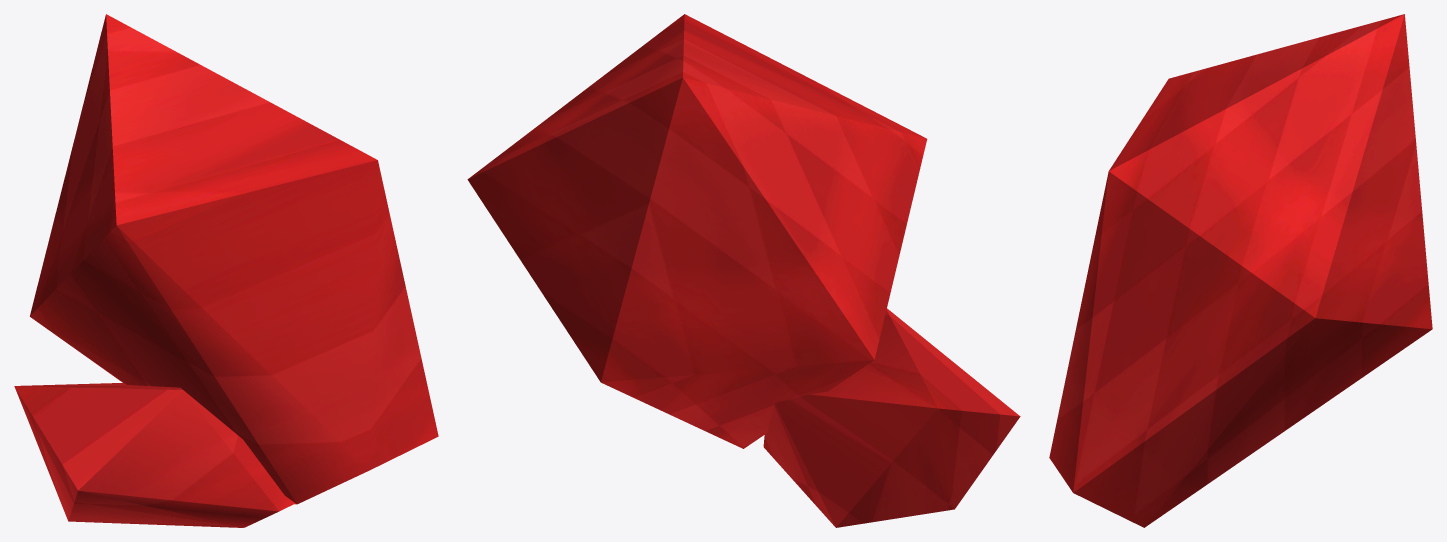
Rendered from CopperOre.fbx.
3 views of the same model, side by side, from view 1: azimuth 30°, elevation 25°; view 2: azimuth 150°, elevation 25°; view 3: azimuth 270°, elevation 25° (orthographic). The views are drawn at different scales.
Visible parts, largest first — view 1: Rock; view 2: Rock; view 3: Rock.
Boxes of the visible parts, <box> form: Rock: <box>14,14,438,527</box>; Rock: <box>467,14,1020,527</box>; Rock: <box>1049,14,1432,527</box>.
Bounding box in the file's own units: 0.5881 × 0.6292 × 0.4725.
Materials: 1 (1 with a texture image).
